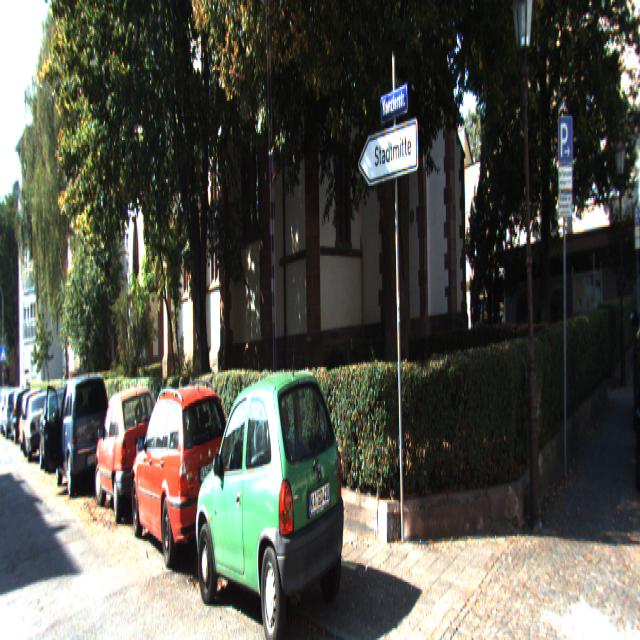Car: (190, 362, 354, 638), (124, 368, 238, 579), (89, 374, 162, 527), (53, 366, 112, 501), (17, 384, 53, 464)
